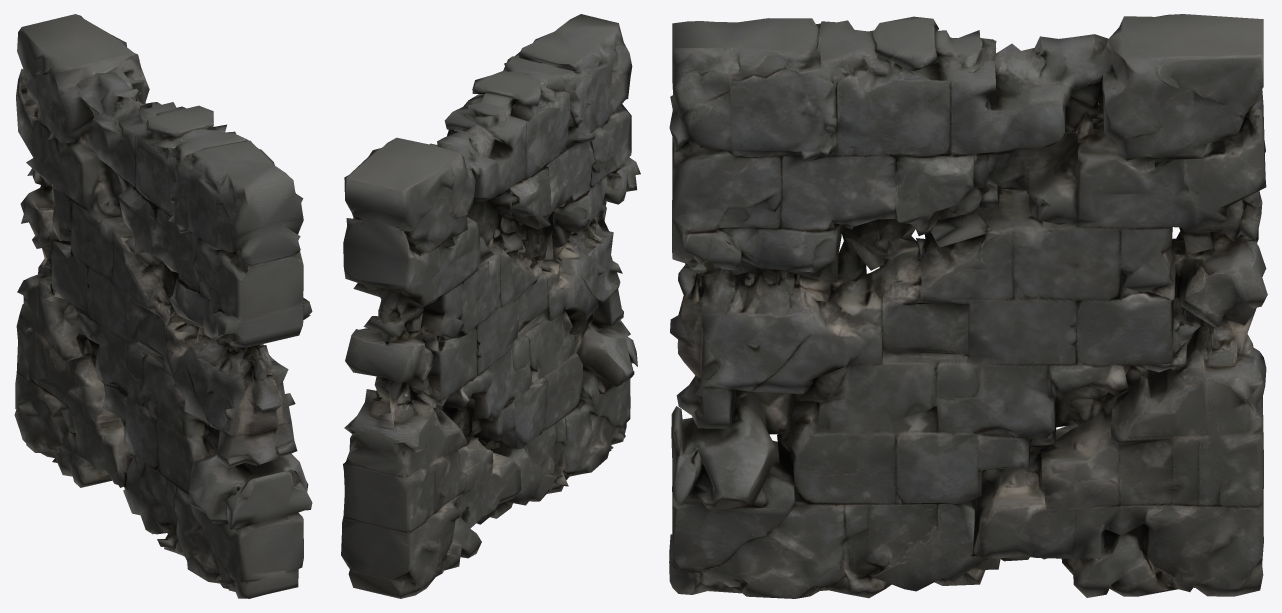
Rendered from brick_broken.glb.
The picture shows the model from 3 angles, left to right: view 1: azimuth 30°, elevation 25°; view 2: azimuth 150°, elevation 25°; view 3: azimuth 270°, elevation 25°; orthographic projection. The views are drawn at different scales.
Visible parts, largest first — view 1: tripo_node_c3080f4f-088c-449b-8dbe-de1e3760fa87; view 2: tripo_node_c3080f4f-088c-449b-8dbe-de1e3760fa87; view 3: tripo_node_c3080f4f-088c-449b-8dbe-de1e3760fa87.
Boxes of the visible parts, box(x1,y1,x2,y2) form: tripo_node_c3080f4f-088c-449b-8dbe-de1e3760fa87: box(14, 14, 312, 598); tripo_node_c3080f4f-088c-449b-8dbe-de1e3760fa87: box(341, 14, 640, 598); tripo_node_c3080f4f-088c-449b-8dbe-de1e3760fa87: box(669, 14, 1267, 598).
Size of the model in its own units: 0.2899 by 0.9987 by 1.
1 material, 1 textured.
